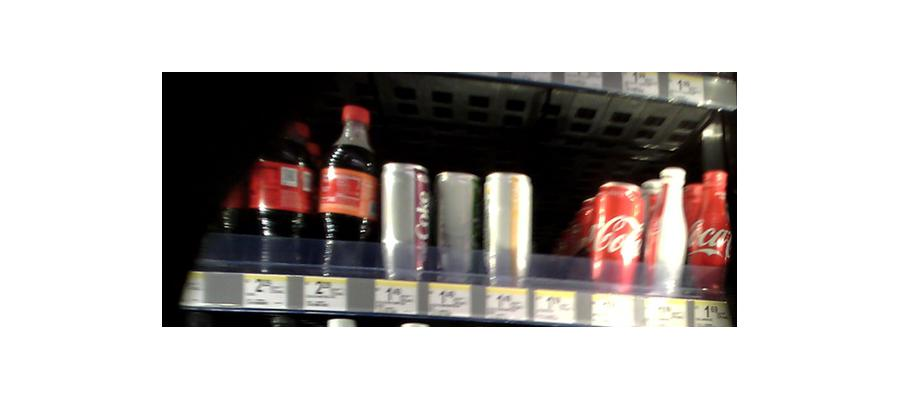bottle: (251, 120, 316, 277), (318, 106, 376, 279), (377, 160, 429, 283), (687, 165, 733, 299), (484, 169, 535, 288), (590, 178, 643, 292), (646, 163, 689, 300), (431, 168, 478, 283)
